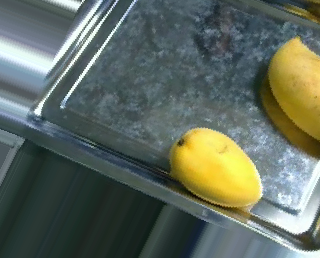Mango: (169, 126, 263, 205), (268, 36, 320, 140)
